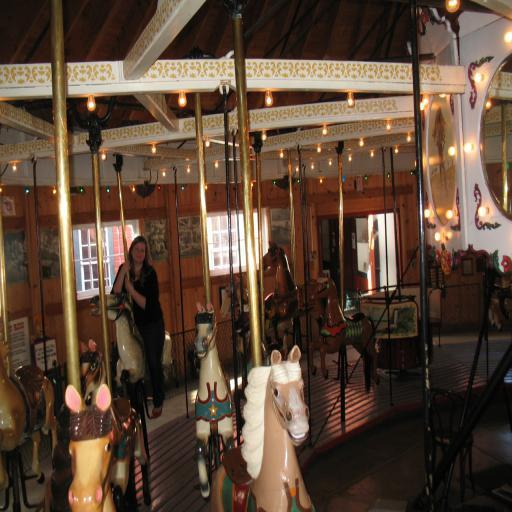horse: (208, 348, 314, 512), (67, 381, 149, 512), (194, 298, 238, 505), (90, 286, 178, 384), (308, 274, 378, 384), (0, 360, 57, 484), (260, 238, 299, 346), (220, 278, 272, 356)
